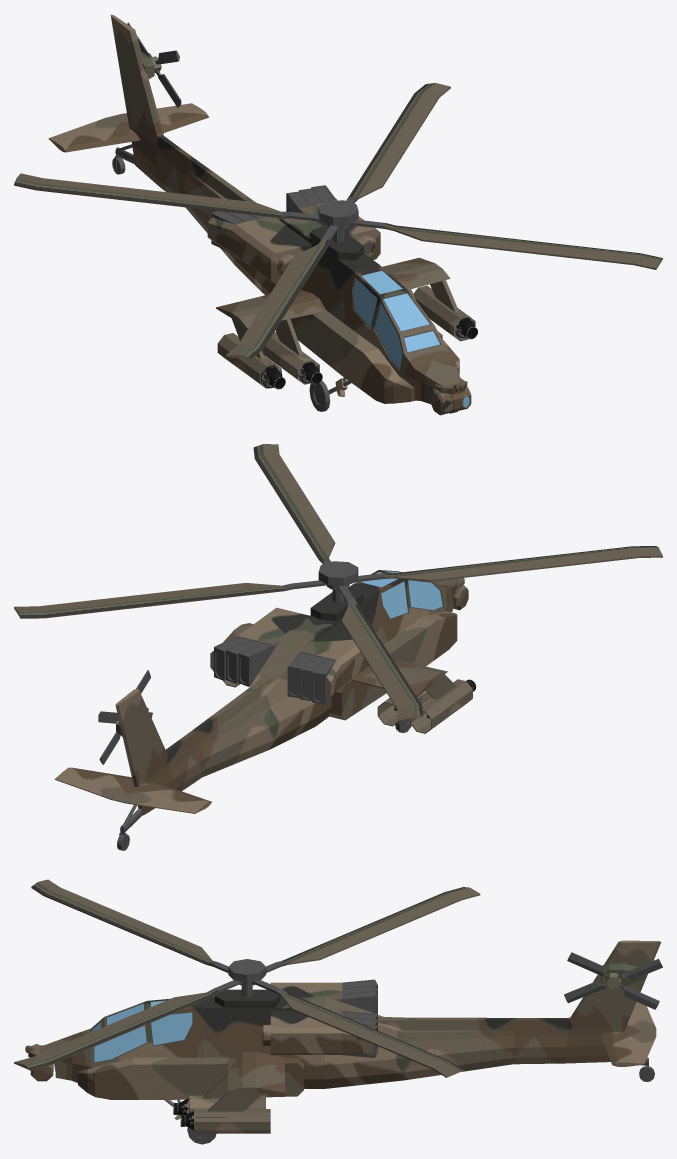
Rendered from ApacheLowPoly.glb.
3 renders of one model, top to bottom at view 1: azimuth 30°, elevation 25°; view 2: azimuth 150°, elevation 25°; view 3: azimuth 270°, elevation 25°, orthographic. The views are drawn at different scales.
Visible parts, largest first — view 1: Cube_14, Cube.009_0, Cube.001_8, Cube.007_10, Cube.005_9, Circle_1, Cube.003_11, Cube.002_4; view 2: Cube_14, Cube.009_0, Cube.001_8, Cube.005_9, Cube.007_10, Circle_1, Cube.003_11; view 3: Cube_14, Cube.009_0, Cube.001_8, Cube.007_10, Cube.003_11, Cube.005_9, Circle_1, Plane_13.
Boxes of the visible parts, x1,y1,x2,y2 form: Cube_14: (48,14,475,404); Cube.009_0: (14,83,662,359); Cube.001_8: (290,310,459,411); Cube.007_10: (207,198,380,283); Cube.005_9: (211,185,336,253); Circle_1: (318,200,358,242); Cube.003_11: (127,22,181,107); Cube.002_4: (430,387,471,415); Cube_14: (54,570,472,815); Cube.009_0: (14,444,662,719); Cube.001_8: (329,611,457,732); Cube.005_9: (214,636,336,704); Cube.007_10: (210,607,379,699); Circle_1: (318,561,358,602); Cube.003_11: (98,670,152,764); Cube_14: (39,940,661,1133); Cube.009_0: (14,879,480,1077); Cube.001_8: (78,1057,303,1144); Cube.007_10: (262,982,373,1054); Cube.003_11: (564,952,662,1009); Cube.005_9: (342,979,377,1057); Circle_1: (228,959,266,997); Plane_13: (600,963,645,985).
Bounding box in the file's own units: 2.19 × 0.947 × 3.05.
Materials: 6 (3 with a texture image).
